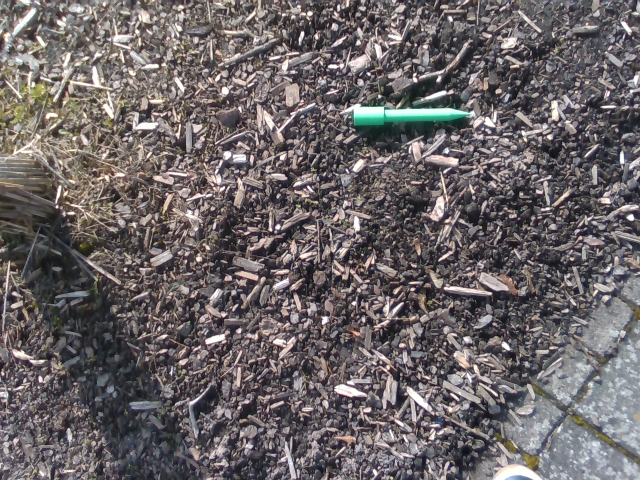Probe: (347, 99, 476, 131)
